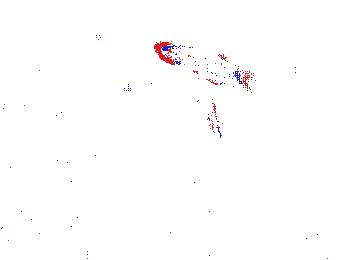glassfish: (184, 69, 226, 145)
redtail glassfish: (154, 41, 254, 93)
